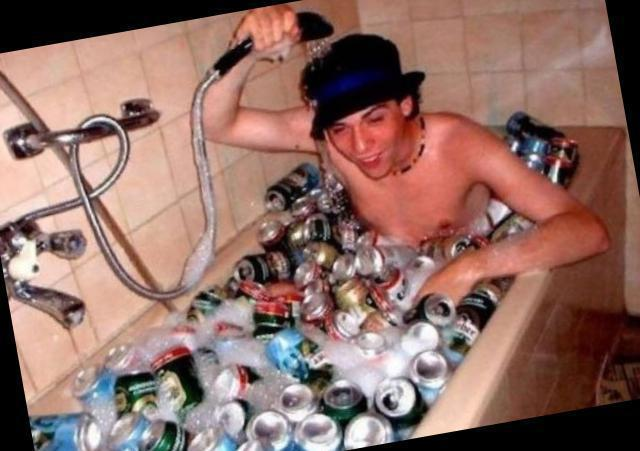Drunk: (337, 109, 400, 172)
